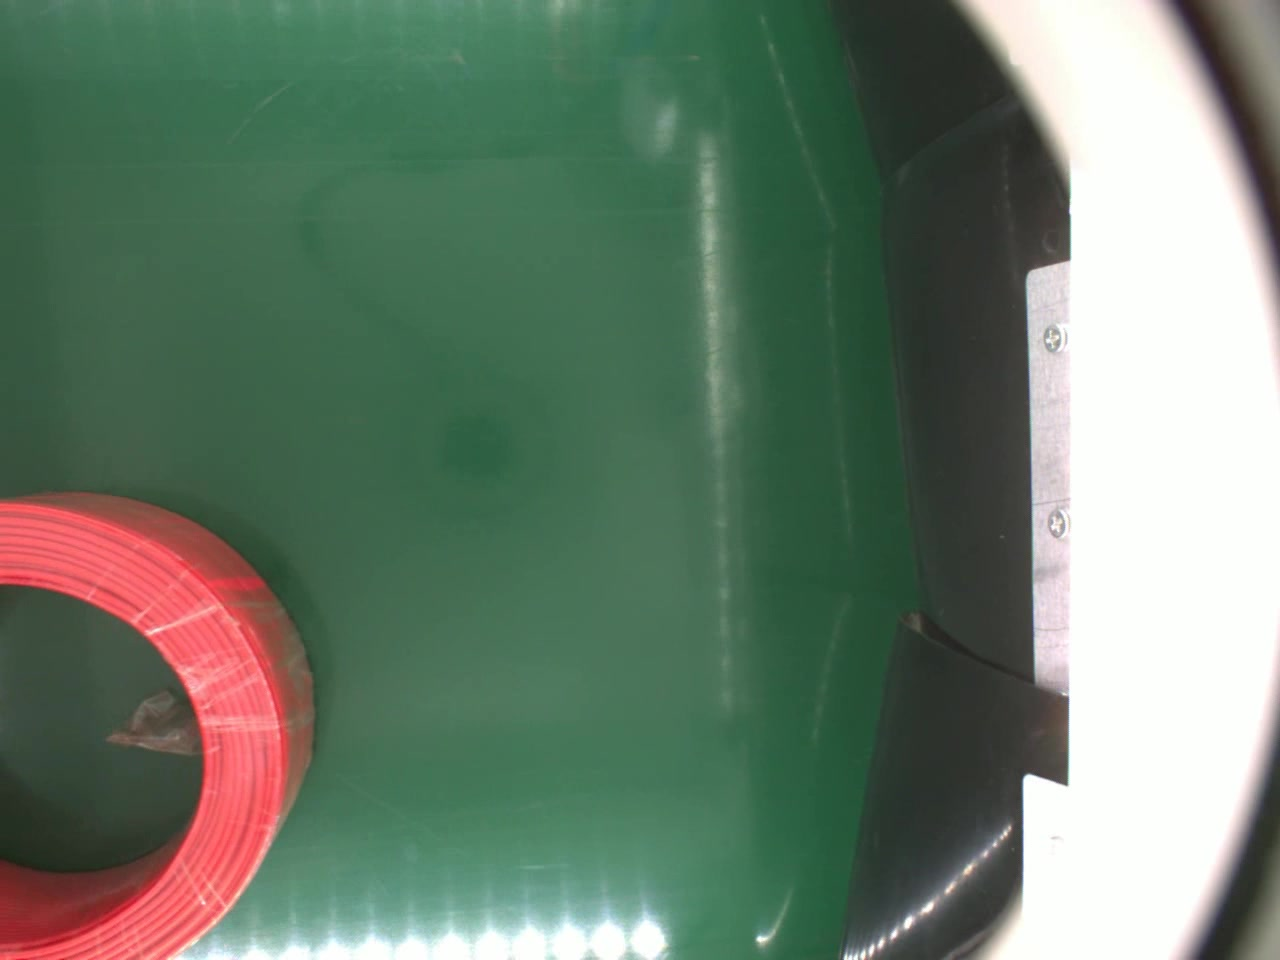red: (0, 497, 317, 960)
